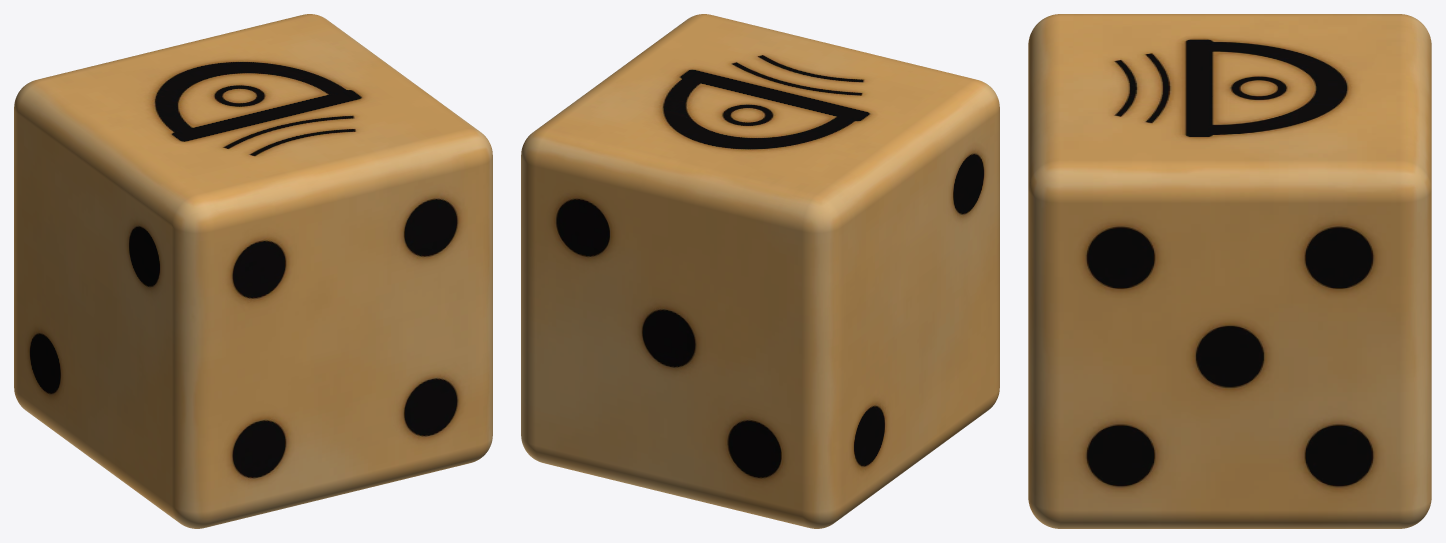
The model's file is dice_6.gltf.
The picture shows the model from 3 angles, left to right: view 1: azimuth 30°, elevation 25°; view 2: azimuth 150°, elevation 25°; view 3: azimuth 270°, elevation 25°; orthographic projection. The views are drawn at different scales.
Visible parts, largest first — view 1: dice_6; view 2: dice_6; view 3: dice_6.
Boxes of the visible parts, box(x1,y1,x2,y2) form: dice_6: box(14, 14, 492, 528); dice_6: box(521, 14, 999, 528); dice_6: box(1028, 14, 1431, 528).
Size of the model in its own units: 104 by 104 by 104.
Materials: 1 (1 with a texture image).
